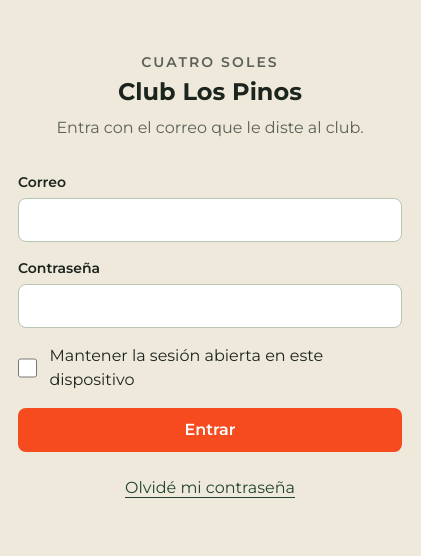
Test: Pantalla de ingreso · entrar › quedarse sin red dice que revise la conexión, no que la contraseña esté mal
In the field labelled "Correo": (210, 220) [18,198,402,242], type "maria@lospinos.test"
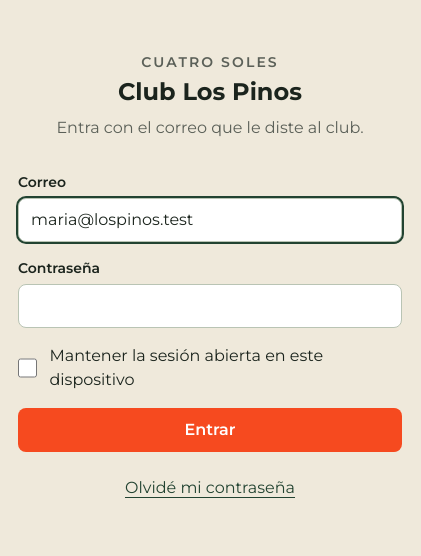
In the password field labelled "Contraseña": (210, 306) [18,284,402,328], type "mi-clave-larga-9"
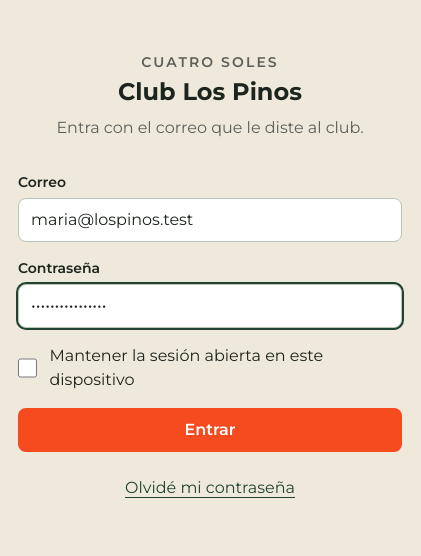
Click the button "Entrar": (210, 430) [18,408,402,452]
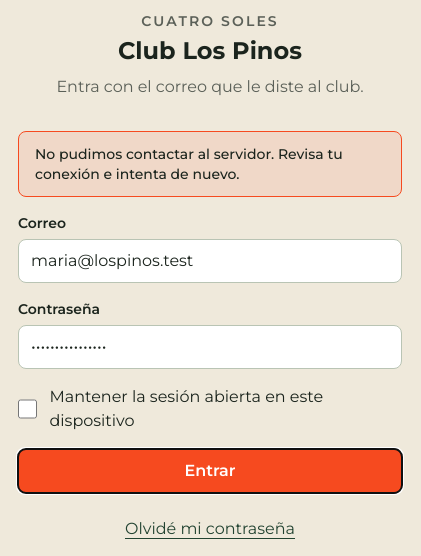
Check: the message reads "No pudimos contactar al servidor. Revisa tu conexión e intenta de nuevo.", box [35,145,343,183]
